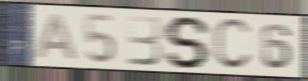5: (83, 12, 118, 65)
6: (260, 22, 294, 71)
A: (32, 12, 79, 62)
B: (125, 14, 164, 67)
C: (211, 16, 255, 72)
S: (163, 15, 214, 71)
